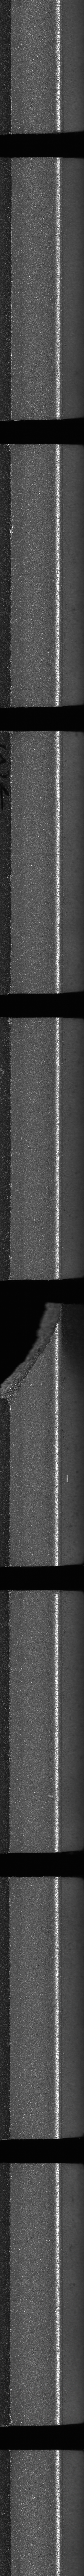Chip: (0, 1299, 68, 1410)
